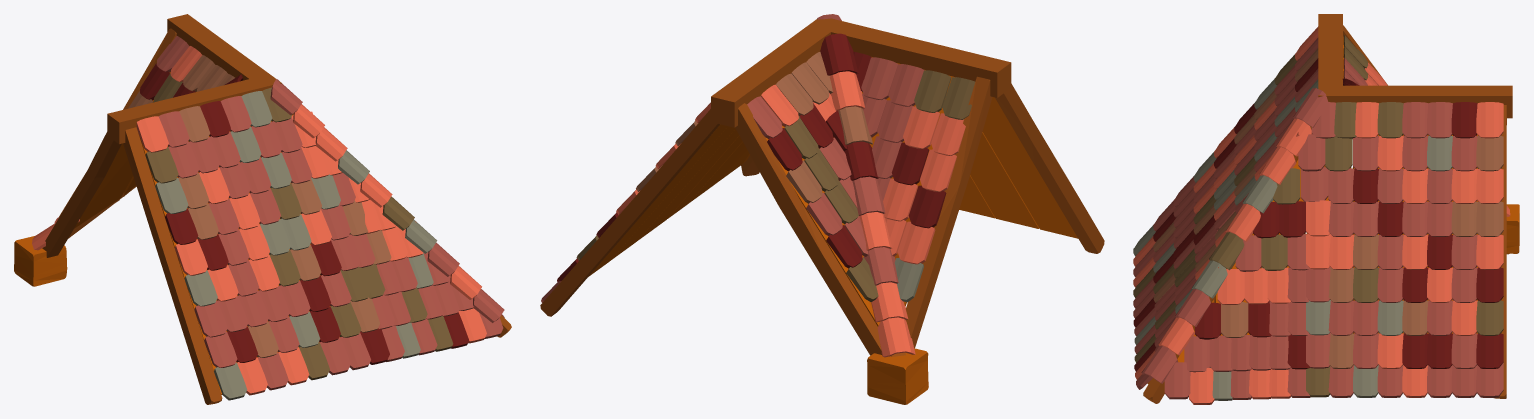
The model's file is NormalRoofBend.fbx.
3 views of the same model, side by side, from view 1: azimuth 30°, elevation 25°; view 2: azimuth 150°, elevation 25°; view 3: azimuth 270°, elevation 25° (orthographic). The views are drawn at different scales.
Visible parts, largest first — view 1: NormalRoofBend_LOD0; view 2: NormalRoofBend_LOD0; view 3: NormalRoofBend_LOD0.
Part boxes in pixels (box(x1,y1,x2,y2)): NormalRoofBend_LOD0: box(14, 14, 511, 404); NormalRoofBend_LOD0: box(540, 14, 1104, 404); NormalRoofBend_LOD0: box(1133, 14, 1519, 404).
Size of what is drawn, in the model's own units: 2162 by 1478 by 2161.
